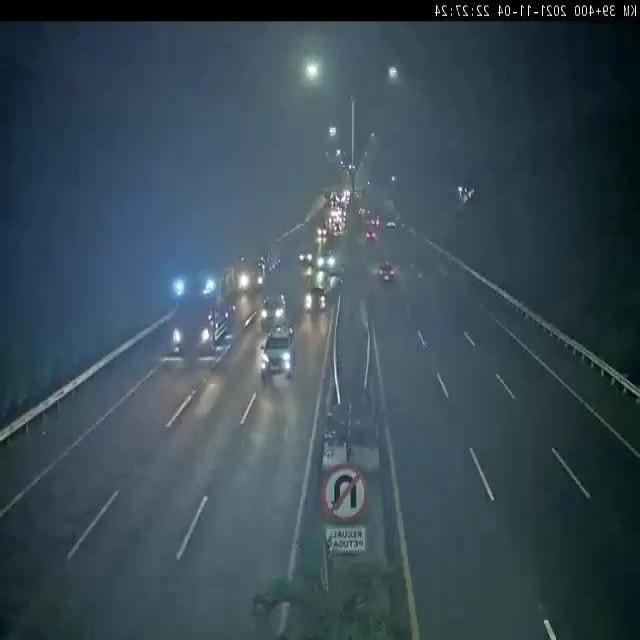Car: (256, 329, 301, 386), (232, 250, 270, 294), (302, 285, 332, 315), (378, 258, 400, 290), (314, 250, 338, 271), (296, 249, 315, 269), (315, 219, 331, 239)
Truck: (162, 261, 238, 359)
Van: (252, 288, 292, 335)
